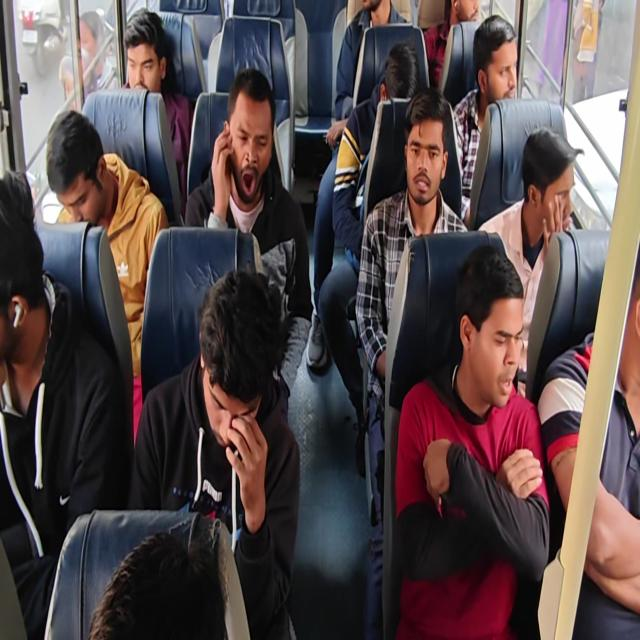person: (72, 539, 243, 640), (455, 265, 532, 412), (197, 303, 266, 448), (0, 183, 41, 375), (216, 82, 273, 212), (47, 125, 114, 231), (528, 132, 578, 243), (122, 13, 162, 99), (407, 111, 444, 200), (373, 48, 421, 116), (481, 28, 522, 102), (444, 0, 486, 36), (628, 246, 640, 363), (354, 0, 390, 18)
